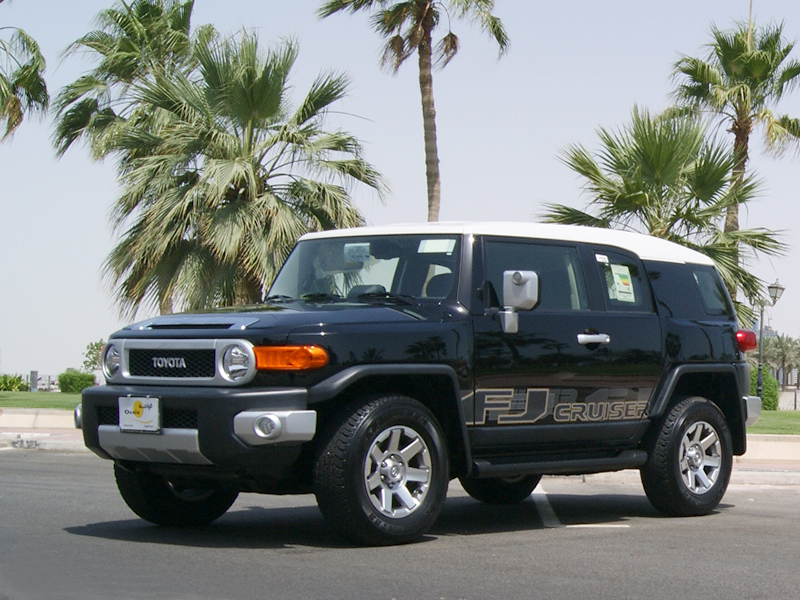other: (91, 233, 752, 527)
